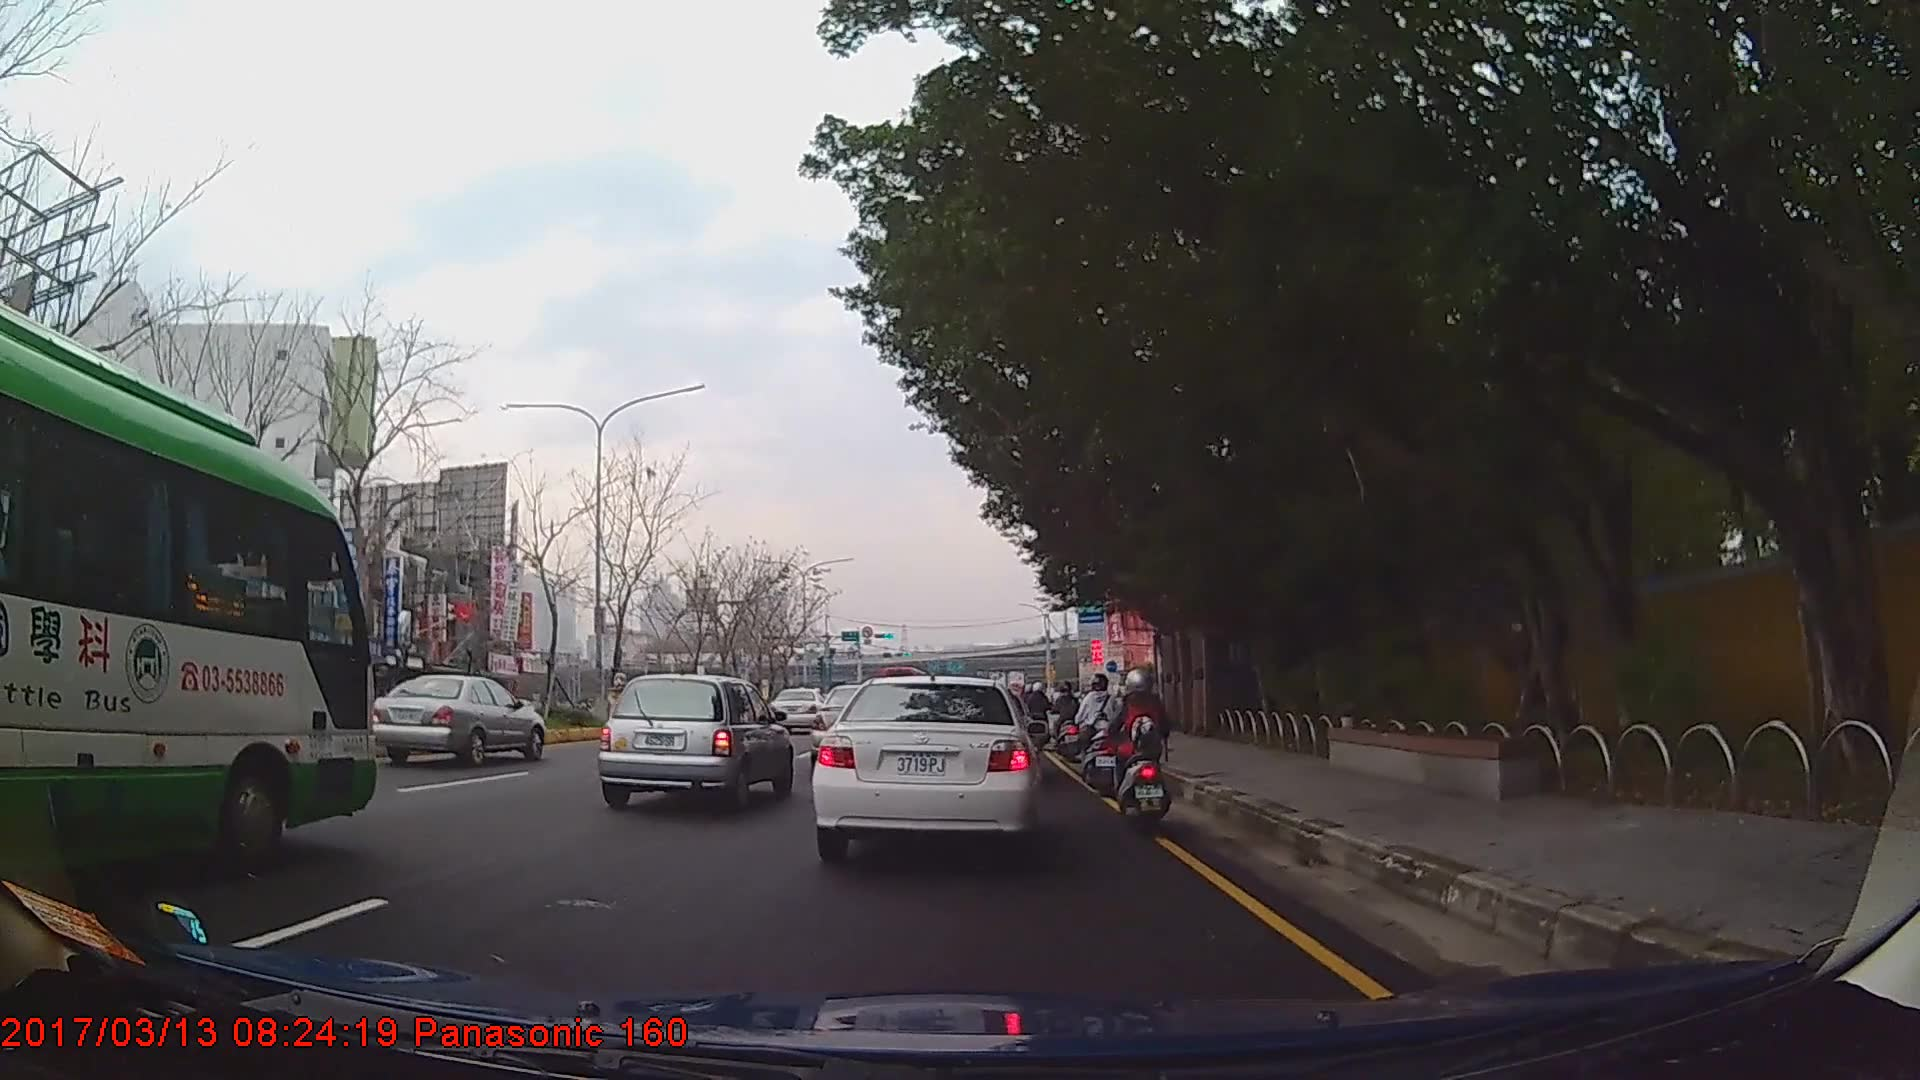rider: (1104, 661, 1164, 820), (1075, 670, 1122, 789), (1054, 681, 1081, 751)
vehicle: (0, 296, 378, 885), (810, 672, 1041, 864), (596, 672, 791, 810), (373, 672, 544, 765), (771, 682, 826, 726)
